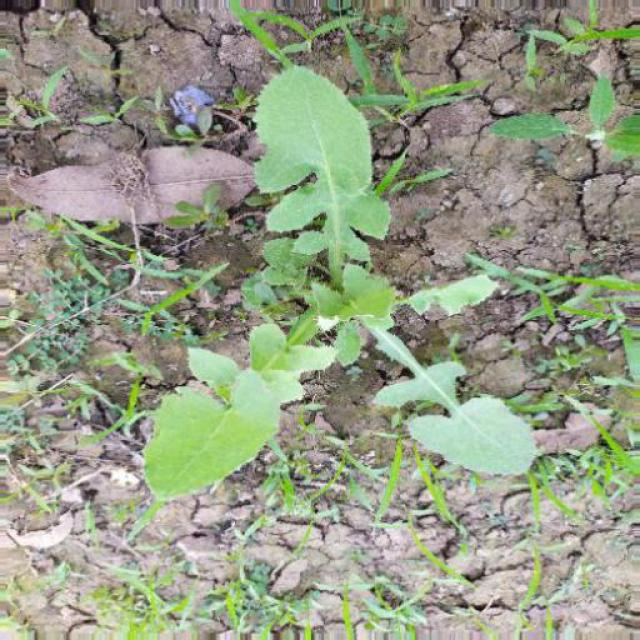weed: (134, 79, 550, 495), (90, 546, 430, 640), (15, 251, 166, 405)
